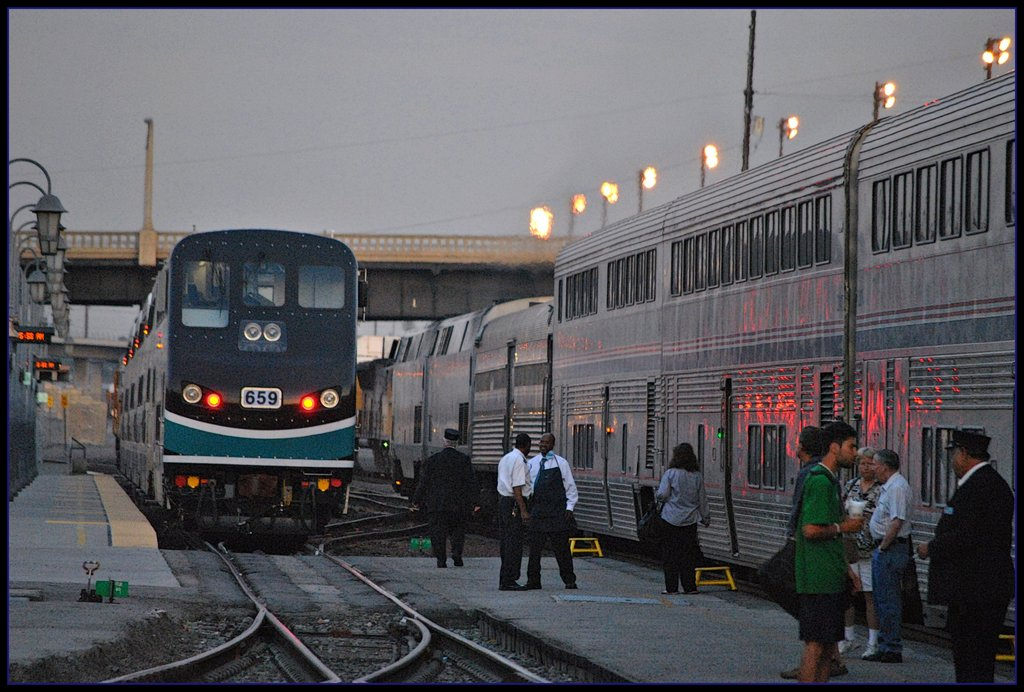train: (108, 223, 373, 549)
